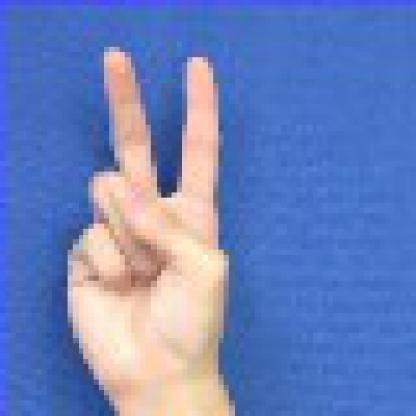two: (50, 37, 251, 400)
